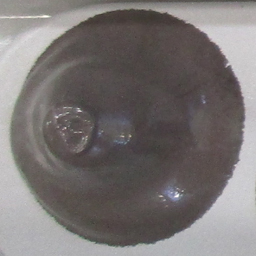perfect: (9, 6, 249, 250)
